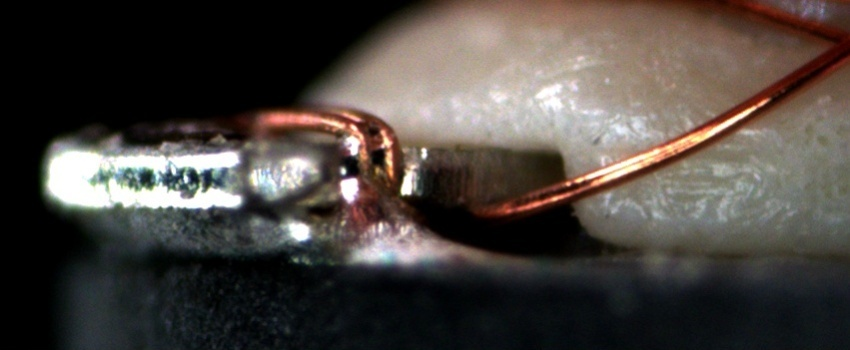CL: (810, 20, 849, 67)
DL: (600, 123, 763, 173)
TE: (248, 97, 406, 211)
